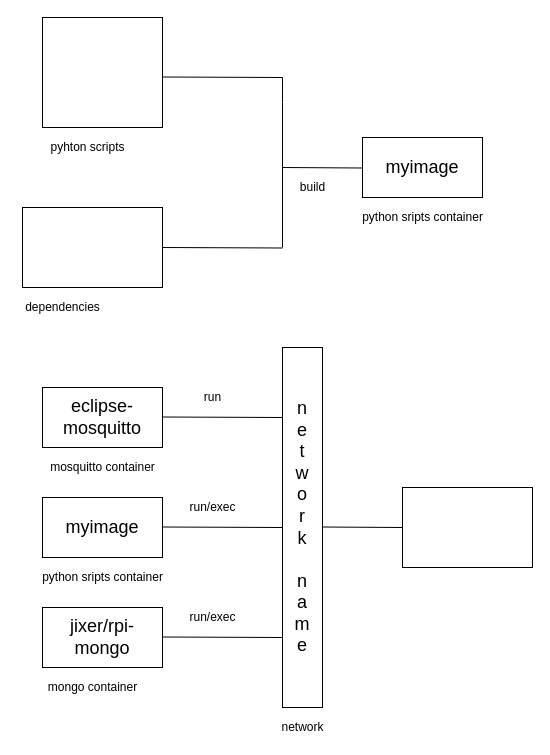
Image size: 550x755. Some labels were removed from this diagram. The centre of each missing label's shape, as x and y in pixels:
"_ main_.py mongo.py mqtt.py" goes at point 102,72.
"data logged to mongo database" goes at point 467,527.
"Dockerfile requirements.txt" goes at point 92,247.
